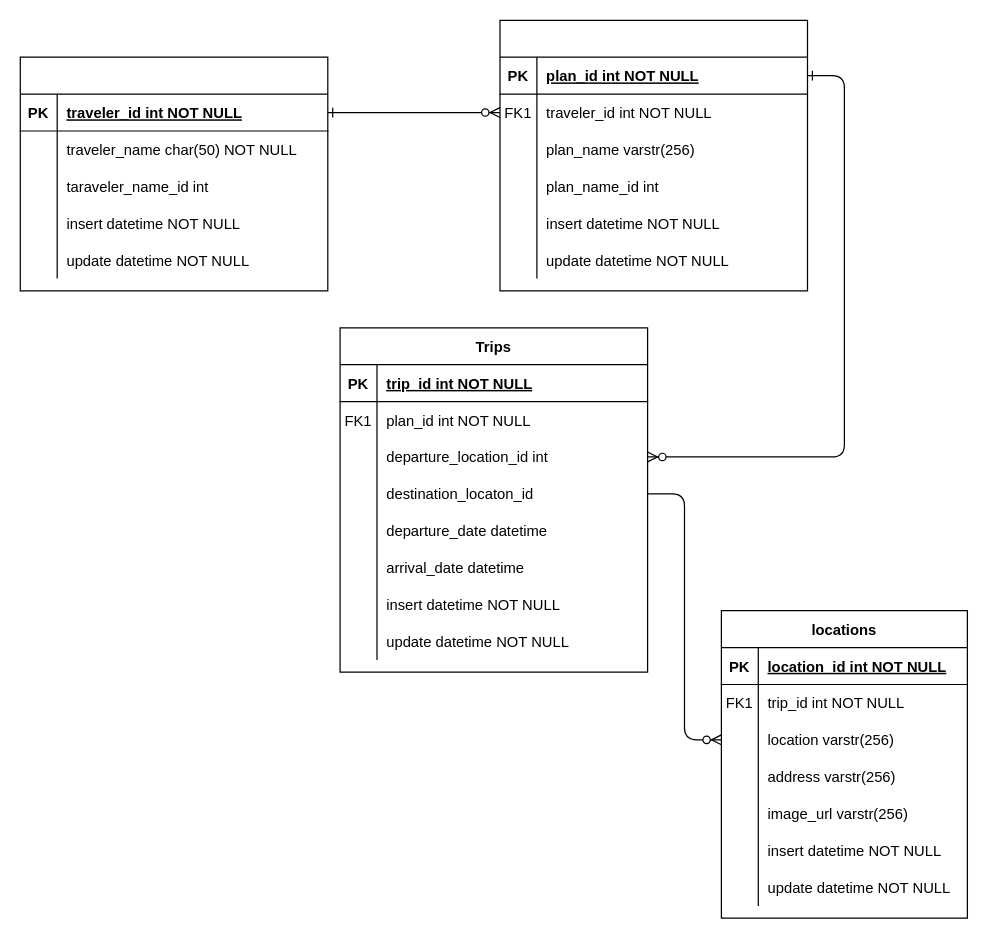
Image size: 988x938. Some labels were removed from this diagram. Each missing label, with the box of its shape:
Plans: (499, 19, 807, 291)
Travelers: (19, 56, 328, 291)
